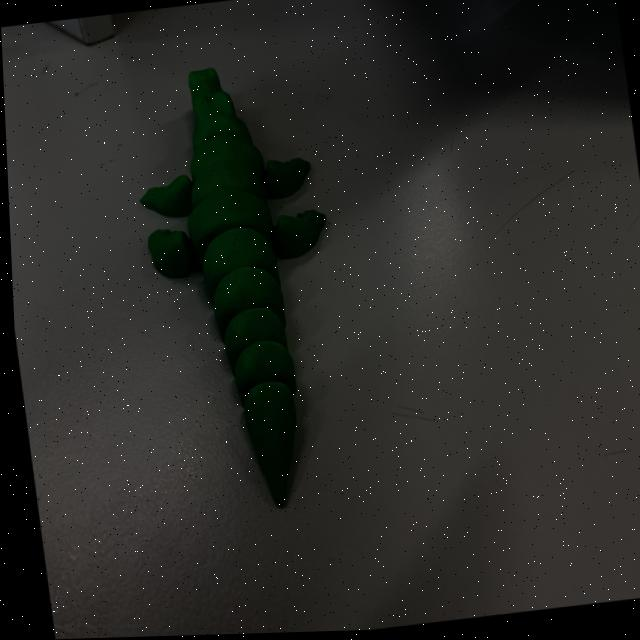crocodile: (124, 55, 363, 516)
